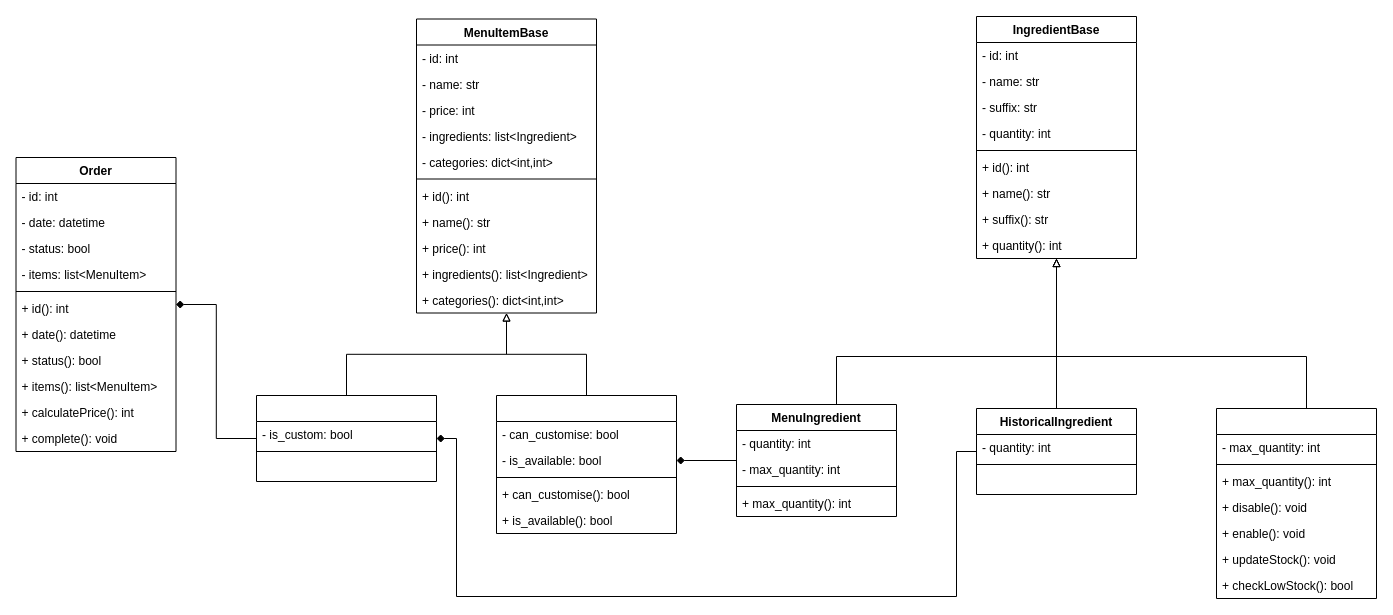
Image size: 1393x615. Some labels were removed from this diagram. The box of each missing label's shape, as (x1, y1, x2, y2) in pixels:
HistorialMenuItem: (256, 394, 436, 482)
Ingredient: (1216, 408, 1376, 598)
MenuItem: (496, 394, 676, 534)
